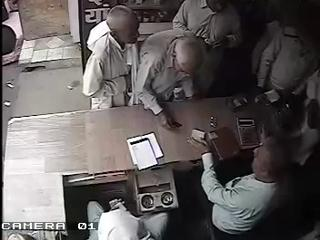Normal: (187, 128, 289, 240), (133, 30, 210, 128), (172, 0, 244, 96), (256, 0, 320, 98), (172, 0, 212, 33)
shoplifting: (81, 5, 140, 110)
